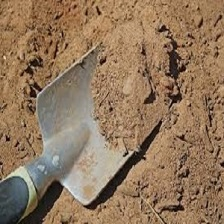sandy_soil: (9, 18, 209, 181)
